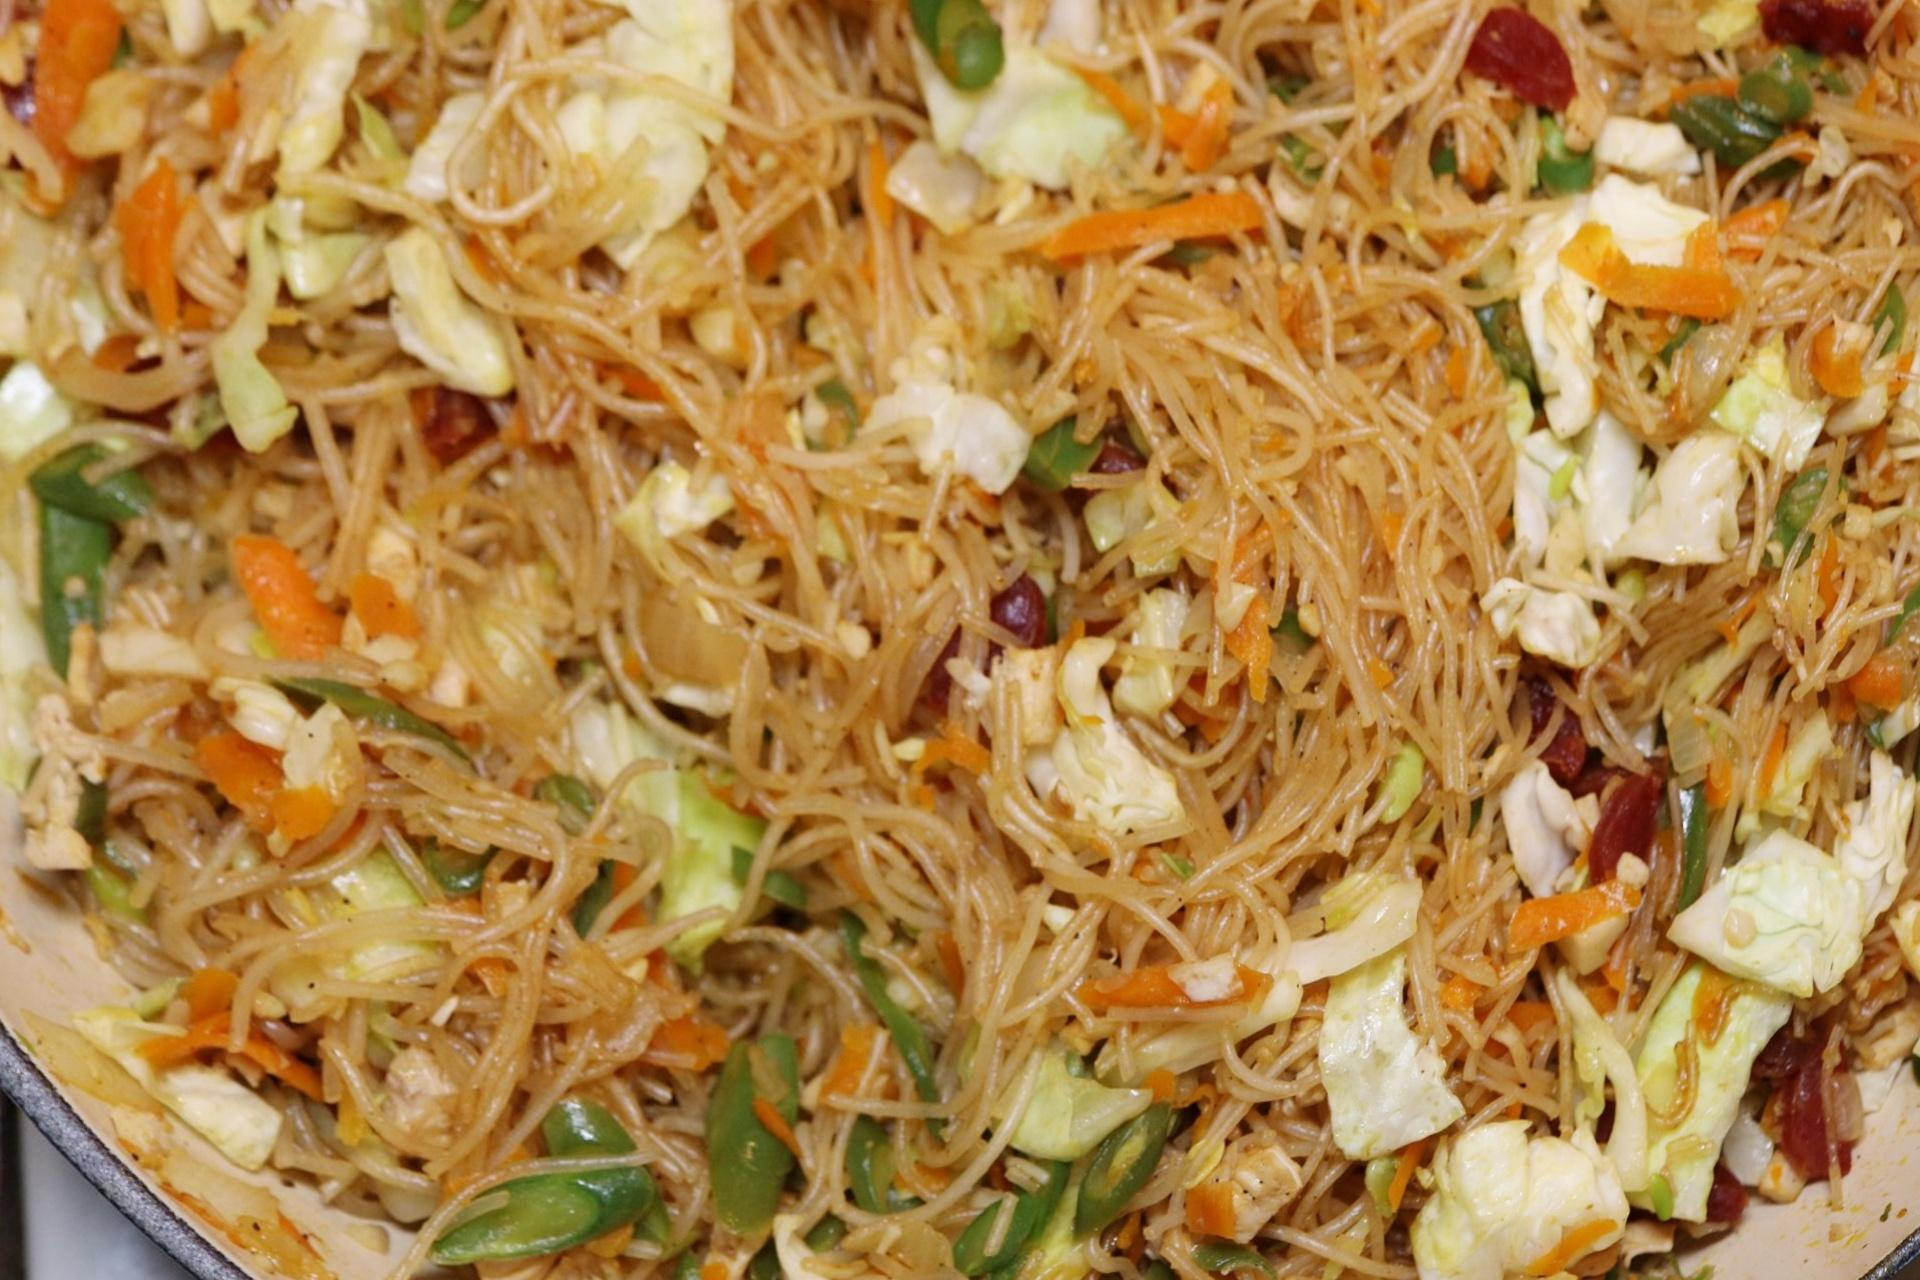pancit bihon: (0, 0, 1919, 1279)
